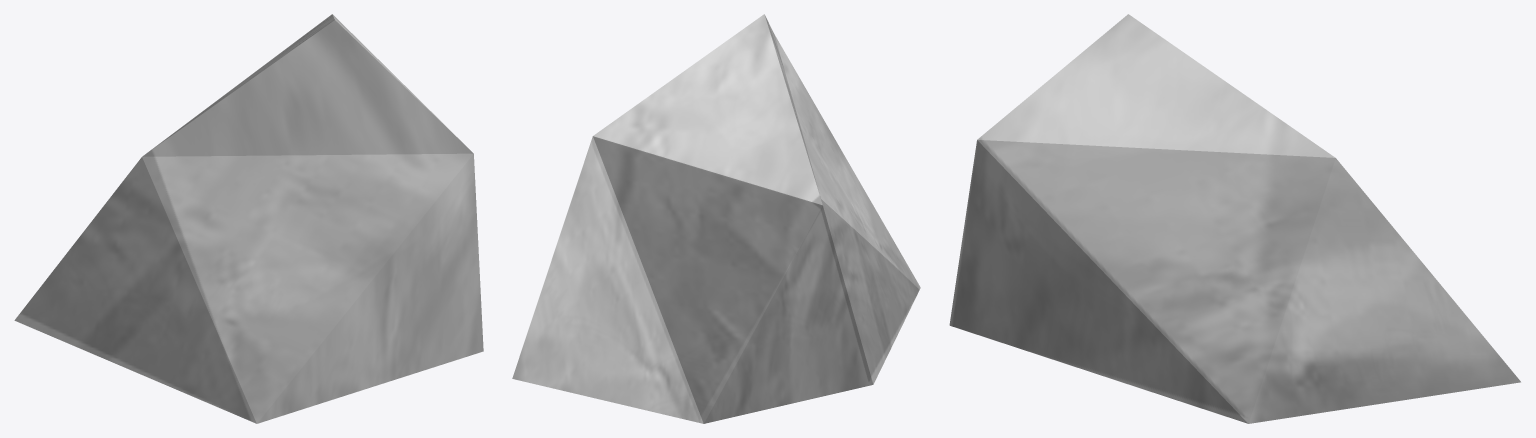
The model's file is rock3.FBX.
The picture shows the model from 3 angles, left to right: view 1: azimuth 30°, elevation 25°; view 2: azimuth 150°, elevation 25°; view 3: azimuth 270°, elevation 25°; orthographic projection. The views are drawn at different scales.
Parts seen in each view (by area): view 1: GeoSphere002; view 2: GeoSphere002; view 3: GeoSphere002.
Part boxes in pixels (x1,y1,x2,y2): GeoSphere002: (14,14,483,423); GeoSphere002: (512,14,920,423); GeoSphere002: (949,14,1520,423).
Size of the model in its own units: 44.61 by 45.8 by 57.91.
1 material, 1 textured.
